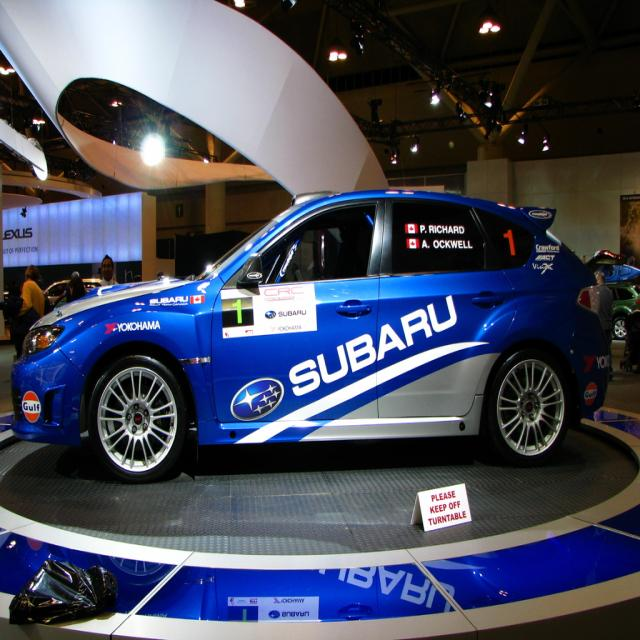car: (11, 187, 611, 466), (603, 274, 635, 339)
